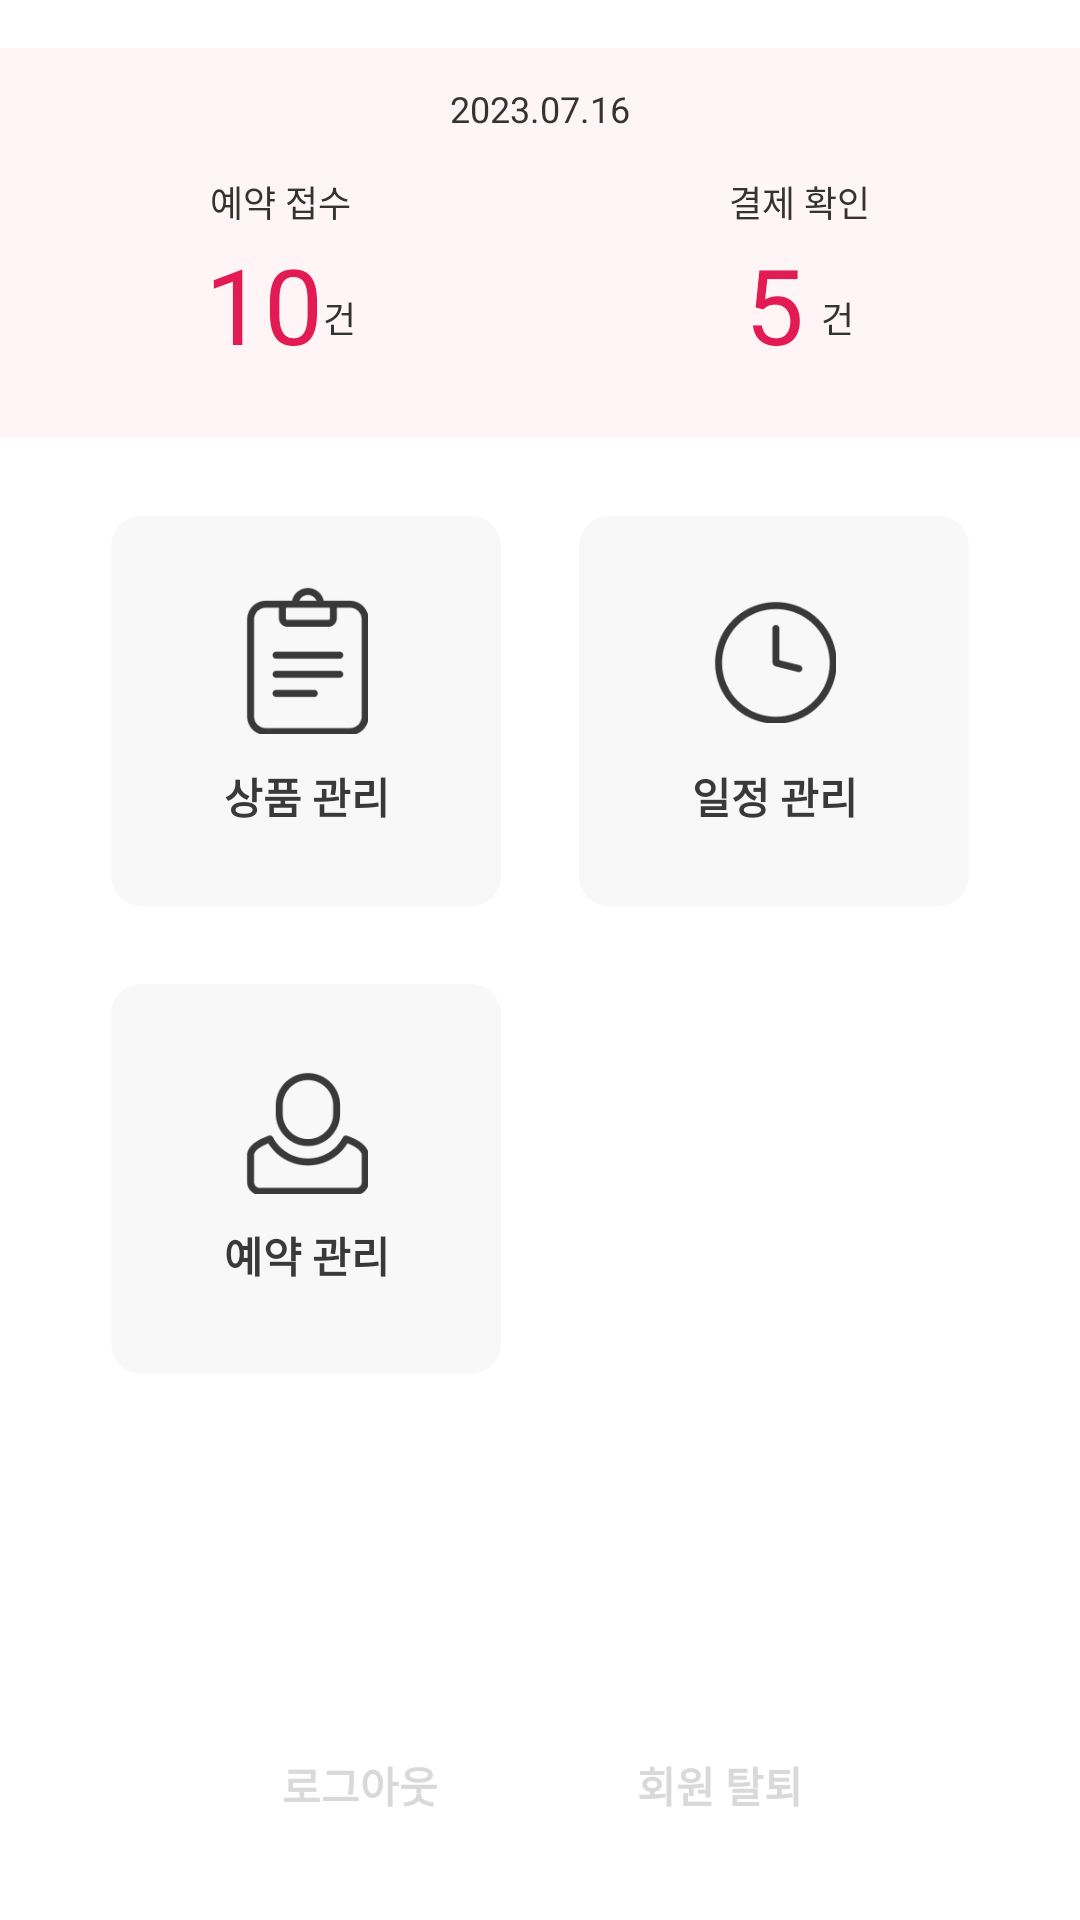

Named icons in this screenshot (1080px x 1920px) and their bounding boxes, (x1, y1, x2, y2):
home schedule: (715, 602, 836, 723)
